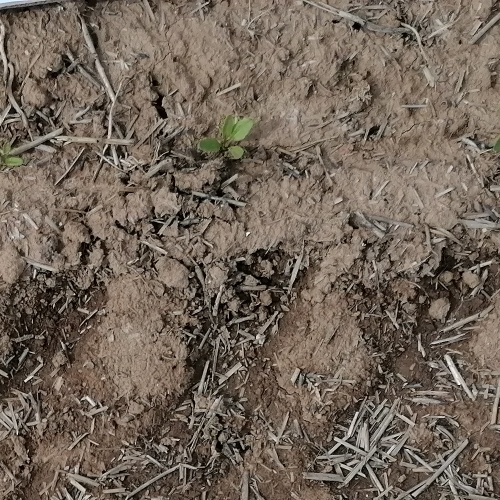beet: (199, 116, 254, 159), (0, 143, 22, 168)
